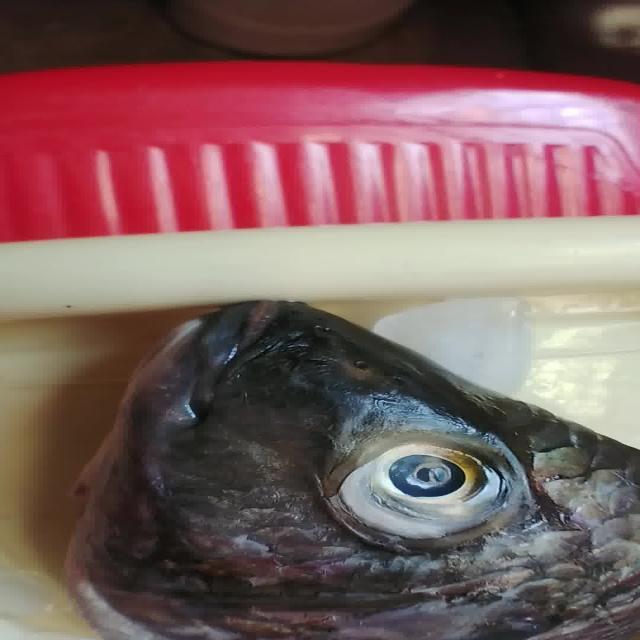Fresh: (277, 428, 537, 556)
